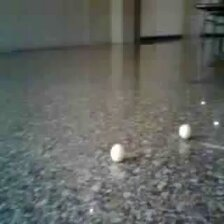w: (109, 143, 126, 162), (177, 124, 192, 141)
